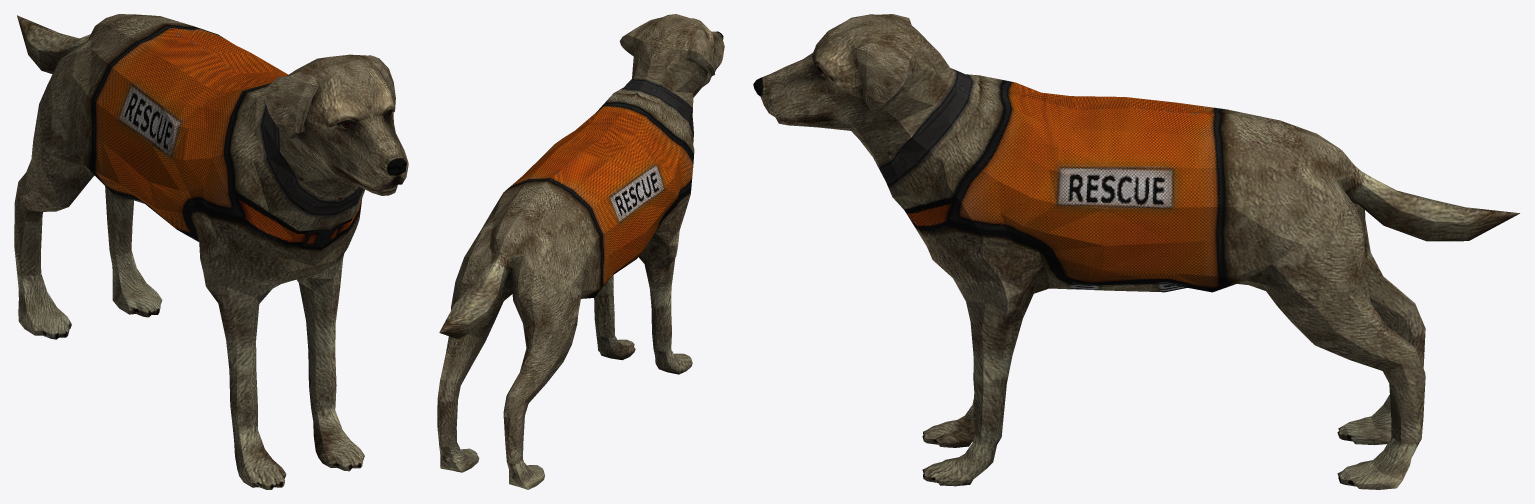
The picture shows the model from 3 angles, left to right: view 1: azimuth 30°, elevation 25°; view 2: azimuth 150°, elevation 25°; view 3: azimuth 270°, elevation 25°; orthographic projection. The views are drawn at different scales.
Visible parts, largest first — view 1: T7_SK_MOB_s4dog; view 2: T7_SK_MOB_s4dog; view 3: T7_SK_MOB_s4dog.
Part boxes in pixels (left/top/right/bottom): T7_SK_MOB_s4dog: left=14, top=14, right=408, bottom=489; T7_SK_MOB_s4dog: left=437, top=14, right=724, bottom=489; T7_SK_MOB_s4dog: left=753, top=14, right=1519, bottom=489.
Bounding box in the file's own units: 83.47 × 223 × 355.
